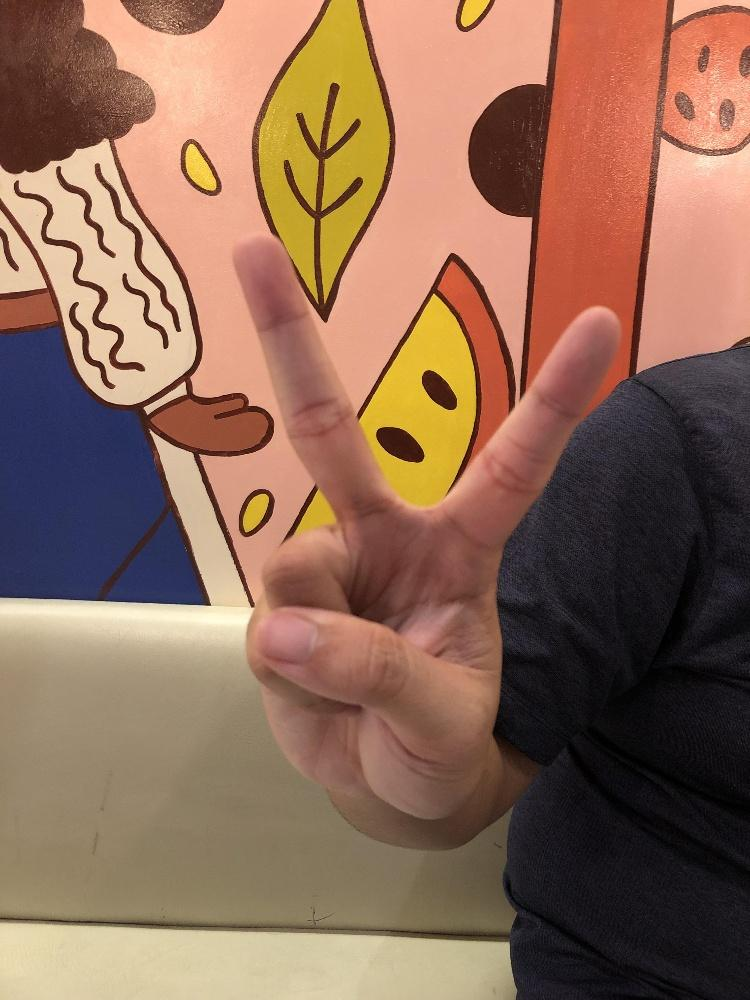v: (231, 226, 621, 821)
